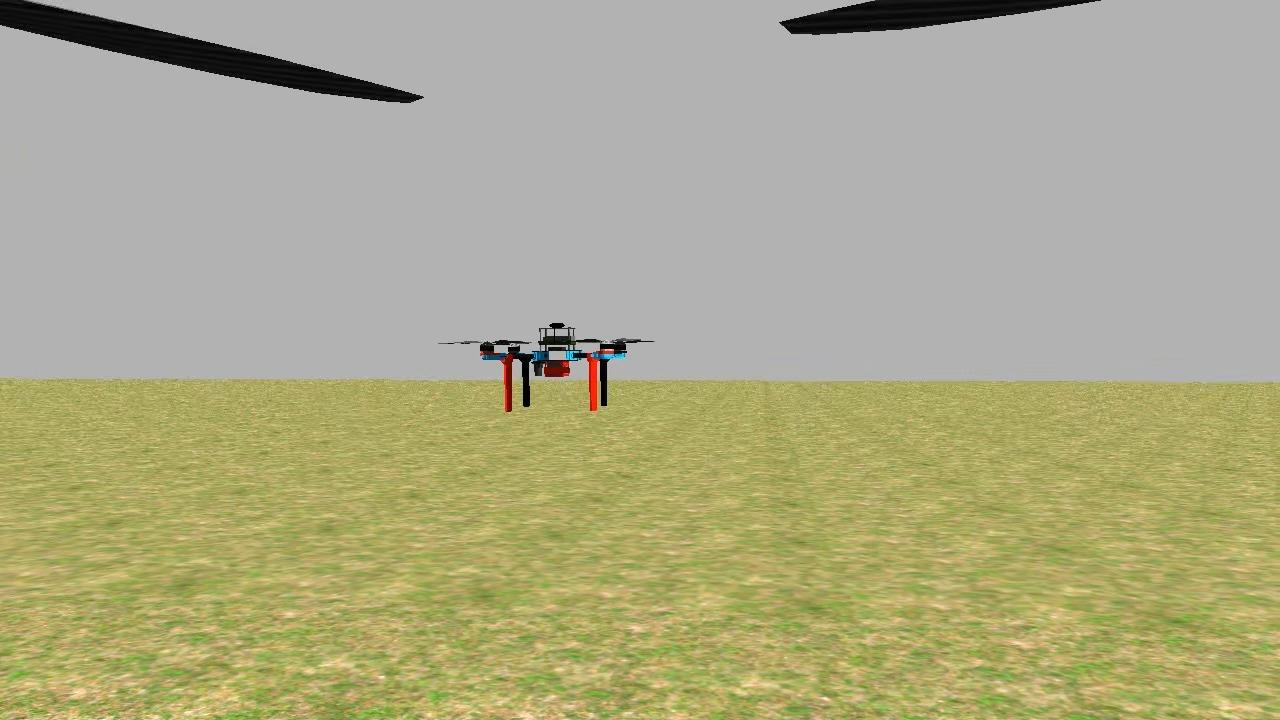UAV: (470, 296, 639, 425)
